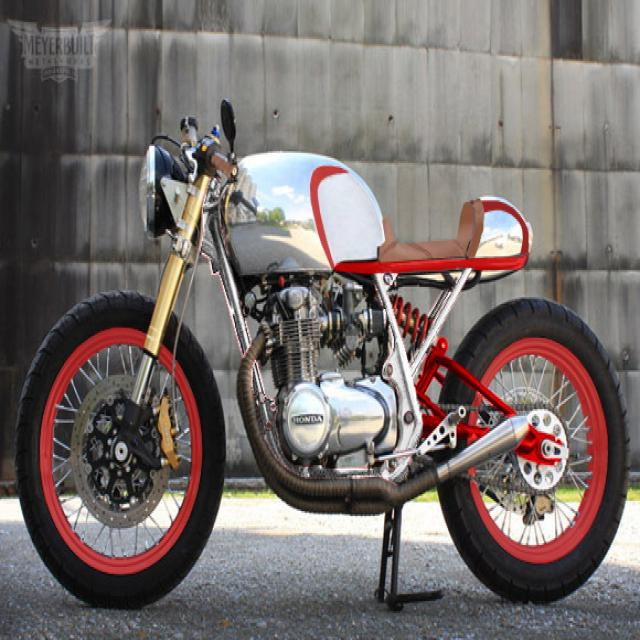motor: (19, 95, 640, 618)
